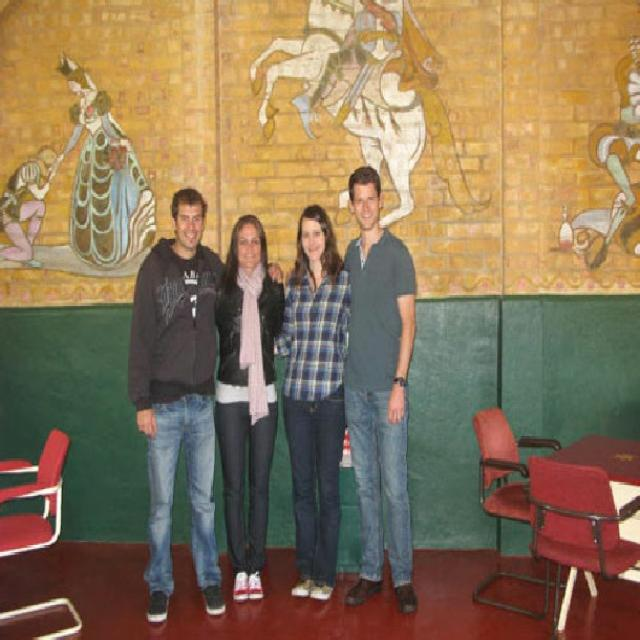body: (126, 186, 285, 627), (0, 45, 161, 281), (339, 163, 421, 618), (264, 202, 354, 606), (212, 211, 287, 605), (286, 0, 447, 159), (553, 34, 639, 282)
